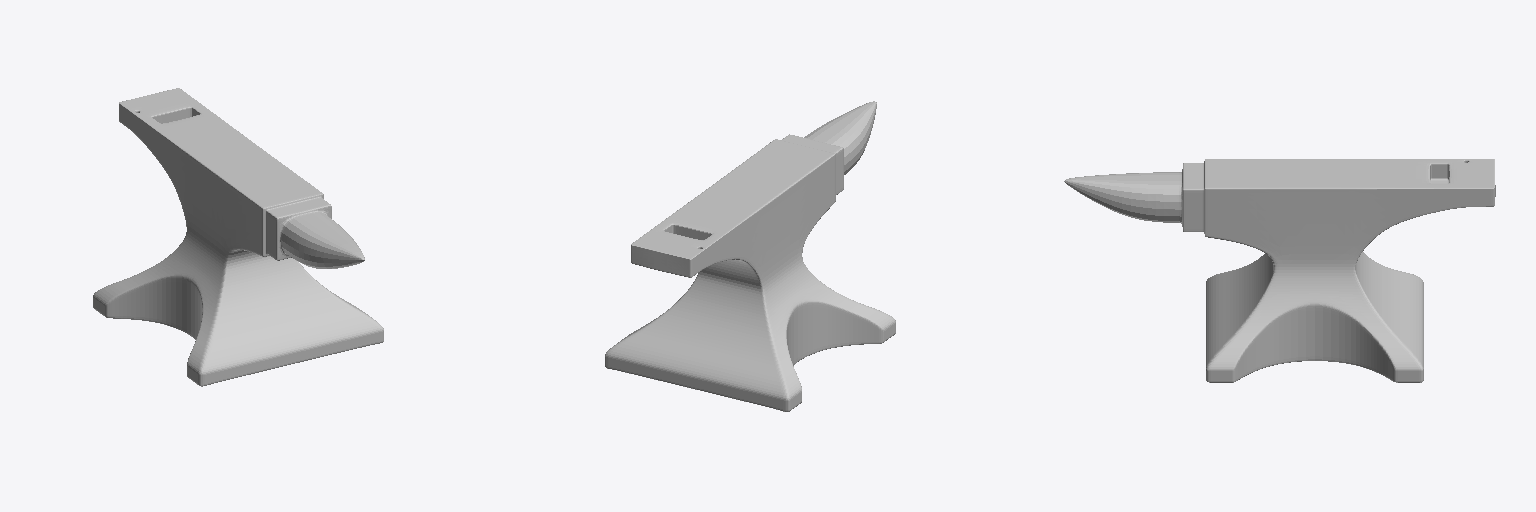
Rendered from anvil tutorial.obj.
The picture shows the model from 3 angles: view 1: azimuth 30°, elevation 25°; view 2: azimuth 150°, elevation 25°; view 3: azimuth 270°, elevation 25°; orthographic projection.
Visible parts, largest first — view 1: anvil.001_Plane.003; view 2: anvil.001_Plane.003; view 3: anvil.001_Plane.003.
Part boxes in pixels (left/top/right/bottom): anvil.001_Plane.003: left=93, top=88, right=383, bottom=386; anvil.001_Plane.003: left=605, top=101, right=895, bottom=411; anvil.001_Plane.003: left=1064, top=159, right=1495, bottom=382.
Size of the model in its own units: 2.13 by 1.81 by 4.3.